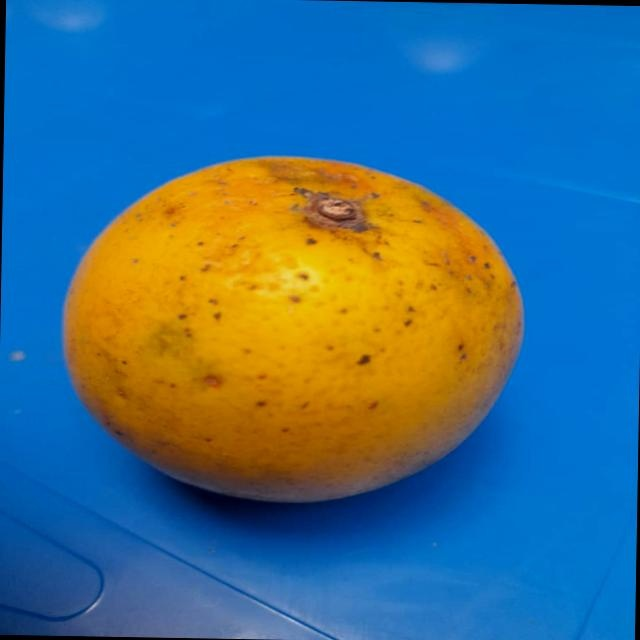agrume: (35, 145, 543, 523)
